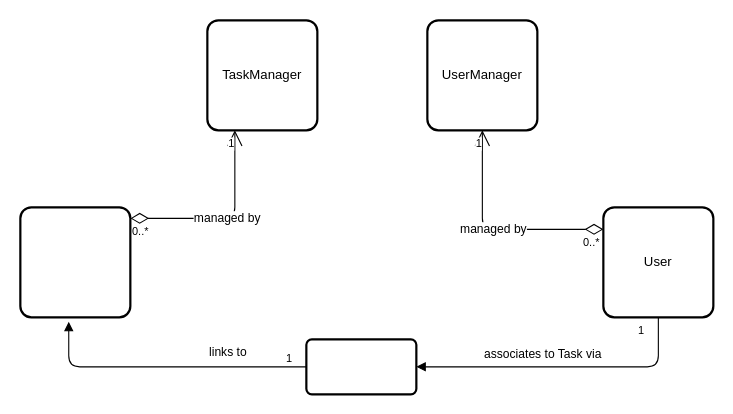
This 733x414 diagram has some shape labels left out. Each missing label, with the box of its shape:
Linker: (305, 338, 417, 395)
Task: (19, 206, 131, 318)
